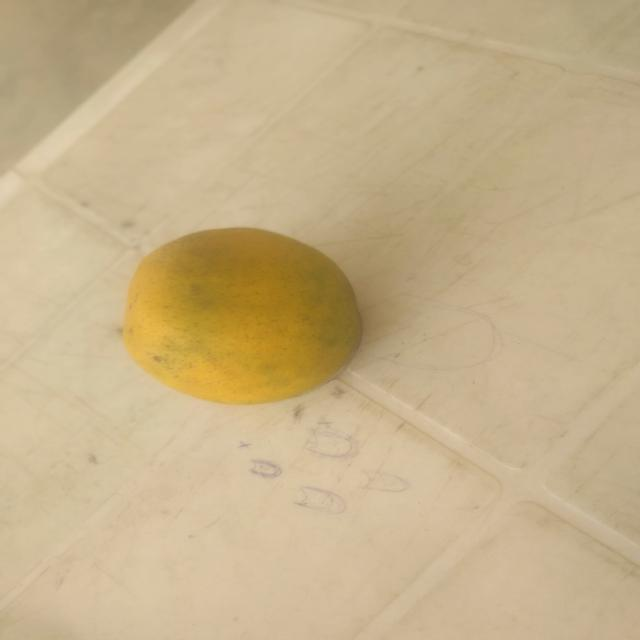Ripe orange: (94, 180, 392, 449)
